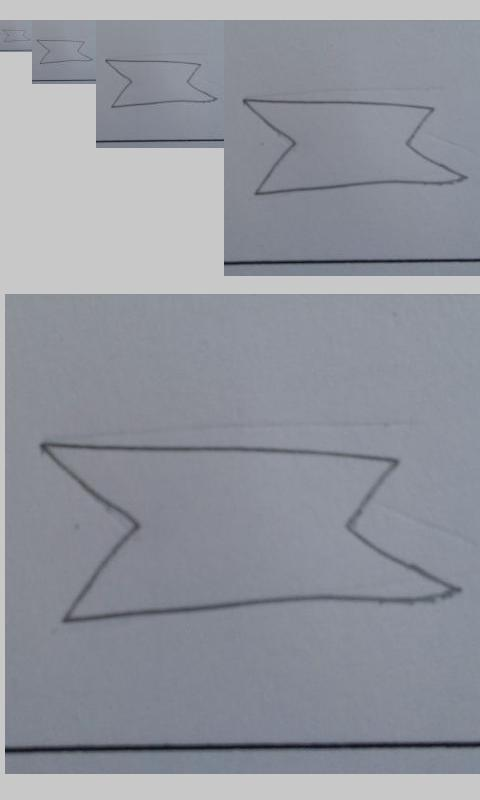edit_text: (39, 442, 458, 626), (244, 96, 467, 197), (105, 59, 217, 109), (36, 39, 93, 64), (3, 29, 30, 42)
